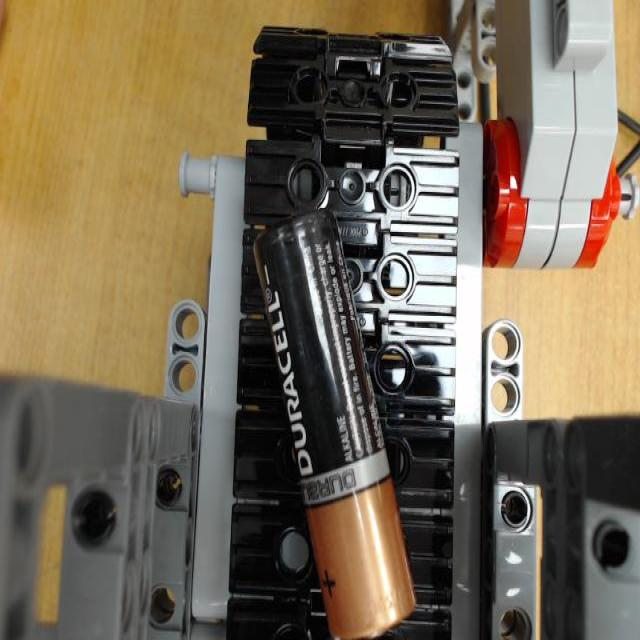AA: (244, 196, 416, 640)
